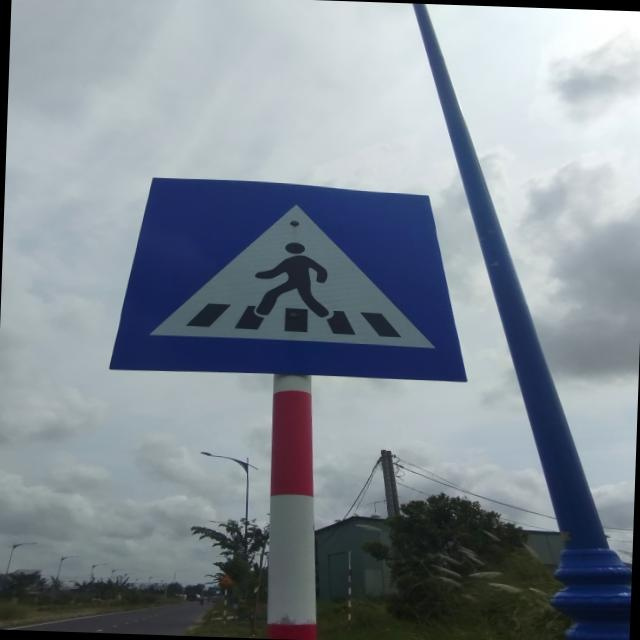Giao_Nhau_Duong_Uu_Tien: (109, 175, 474, 382)
